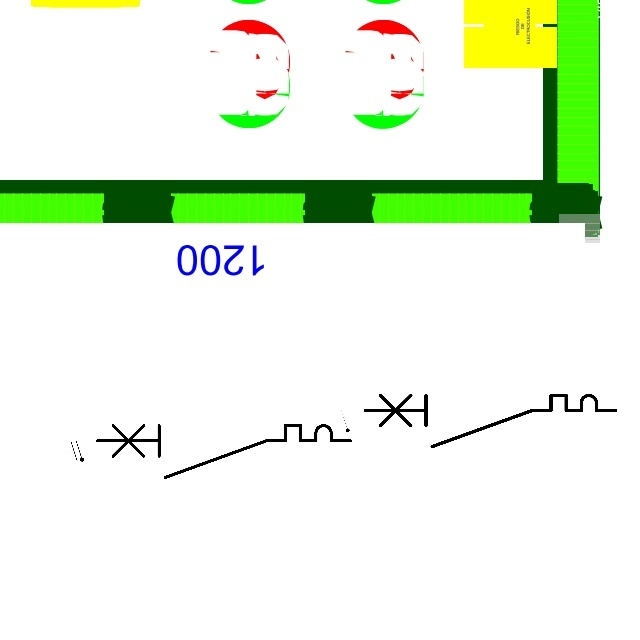interruptor_termomagnetico: (91, 419, 357, 484), (358, 389, 621, 453)
